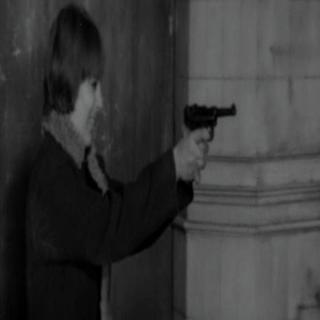gun: (180, 94, 239, 185)
